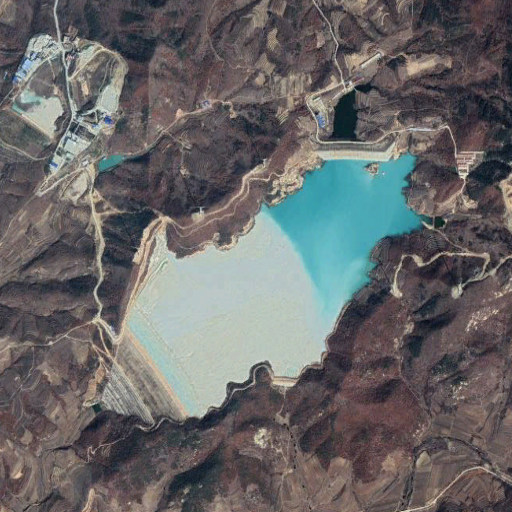tp: (93, 150, 426, 426)
